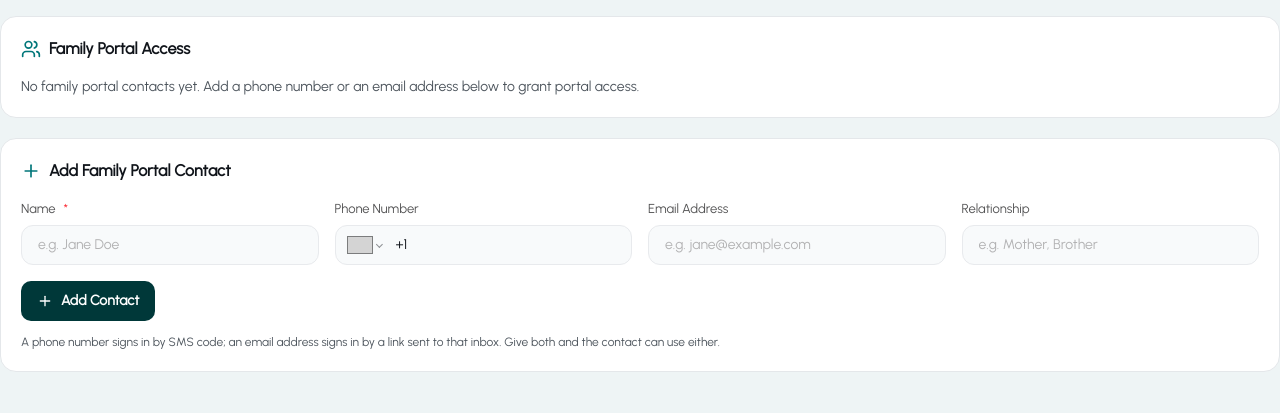
Test: FamilyPortalTab › refuses a malformed email rather than granting access nobody can use
Type "Jane Doe" into the field with placeholder "e.g. Jane Doe".
click(170, 244); type("Jane Doe")  # box [21,224,318,264]
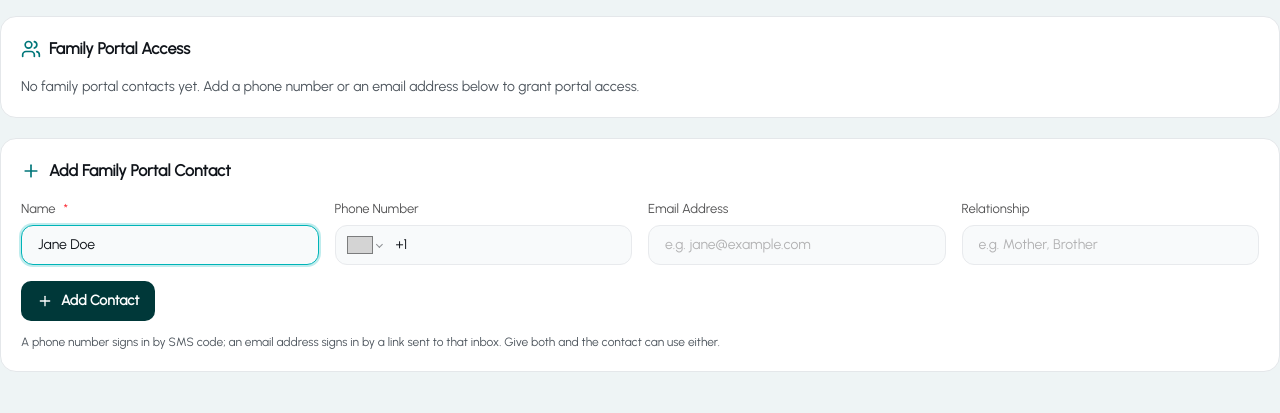
Type "not-an-email" into the field with placeholder "e.g. jane@example.com".
click(797, 244); type("not-an-email")  # box [648,224,946,264]
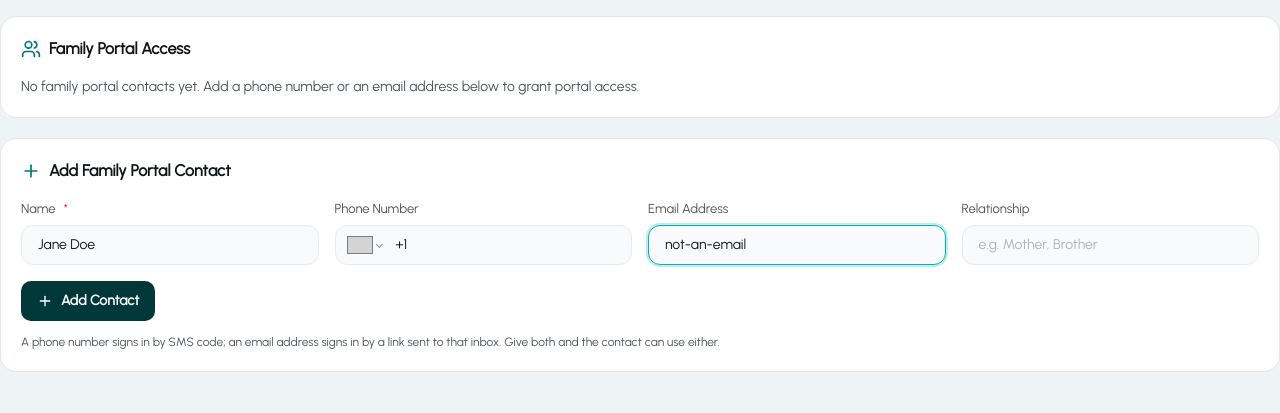
Click the button "Add Contact".
click(88, 300)  # box [21,280,155,320]
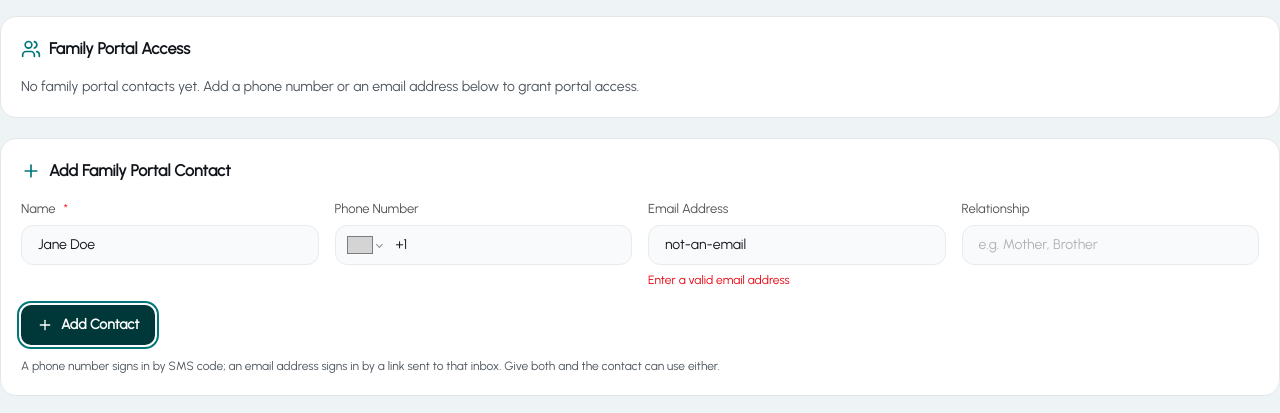
Now the text "Enter a valid email address" is shown, box [648,272,790,286]
